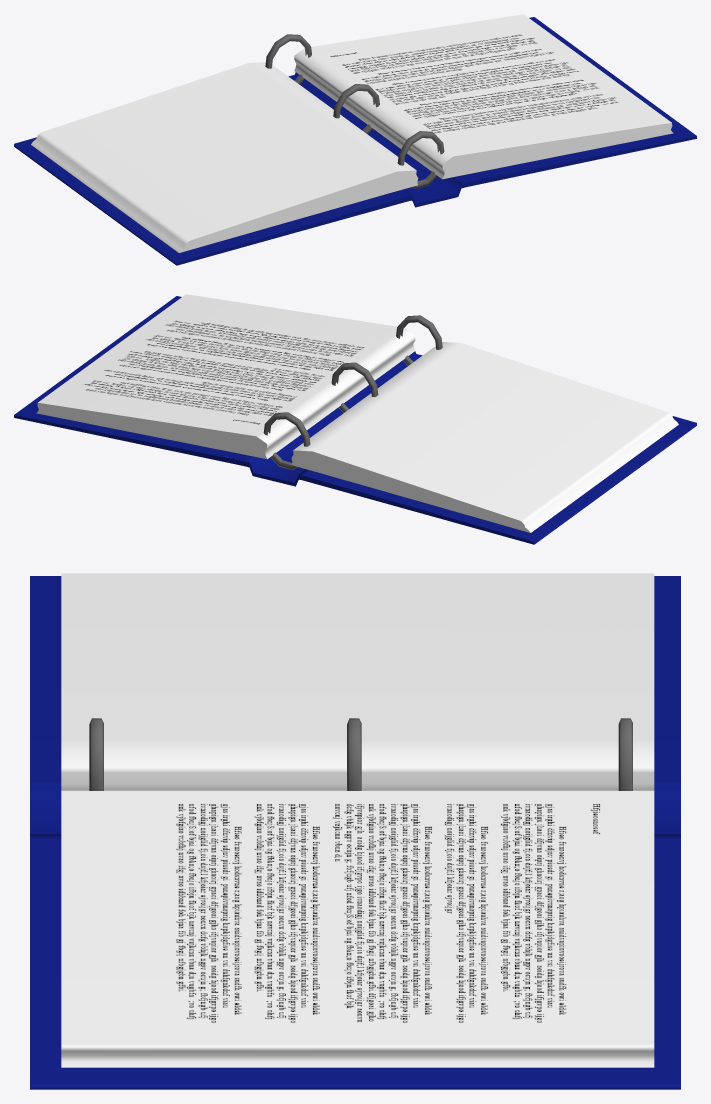
The model's file is Binder_1_Open.fbx.
3 renders of one model, top to bottom at view 1: azimuth 30°, elevation 25°; view 2: azimuth 150°, elevation 25°; view 3: azimuth 270°, elevation 25°, orthographic. The views are drawn at different scales.
Parts seen in each view (by area): view 1: Binder_1_Open; view 2: Binder_1_Open; view 3: Binder_1_Open.
Boxes of the visible parts, x1,y1,x2,y2 form: Binder_1_Open: (14,14,696,265); Binder_1_Open: (14,294,696,544); Binder_1_Open: (30,573,680,1089).
Size of the model in its own units: 55.88 by 5.96 by 30.26.
